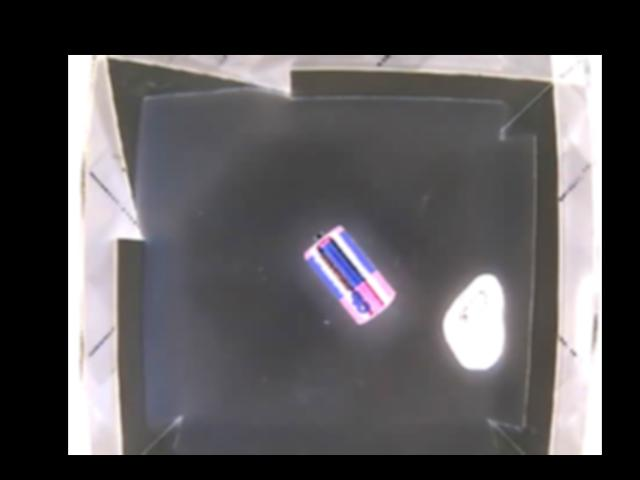Battery: (304, 222, 396, 325)
Pebble: (443, 274, 505, 366)
